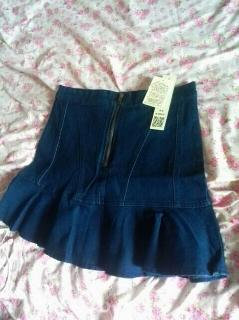skirt: (0, 81, 229, 282)
